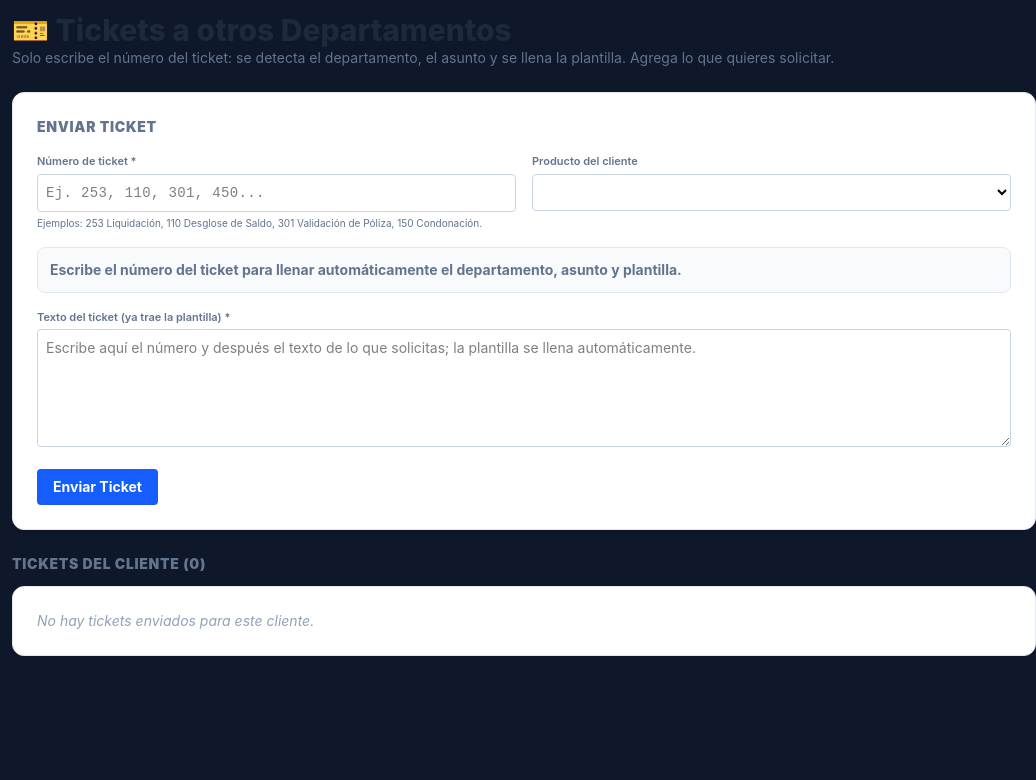
Scenario: TicketsTab: prefill 118 › rellena con valores por defecto cuando la deuda no trae datos
The width and height of the screenshot is (1036, 780).
In the field with placeholder "Ej. 253, 110, 301, 450...": x=276, y=192 [37,174,516,212], type "118"
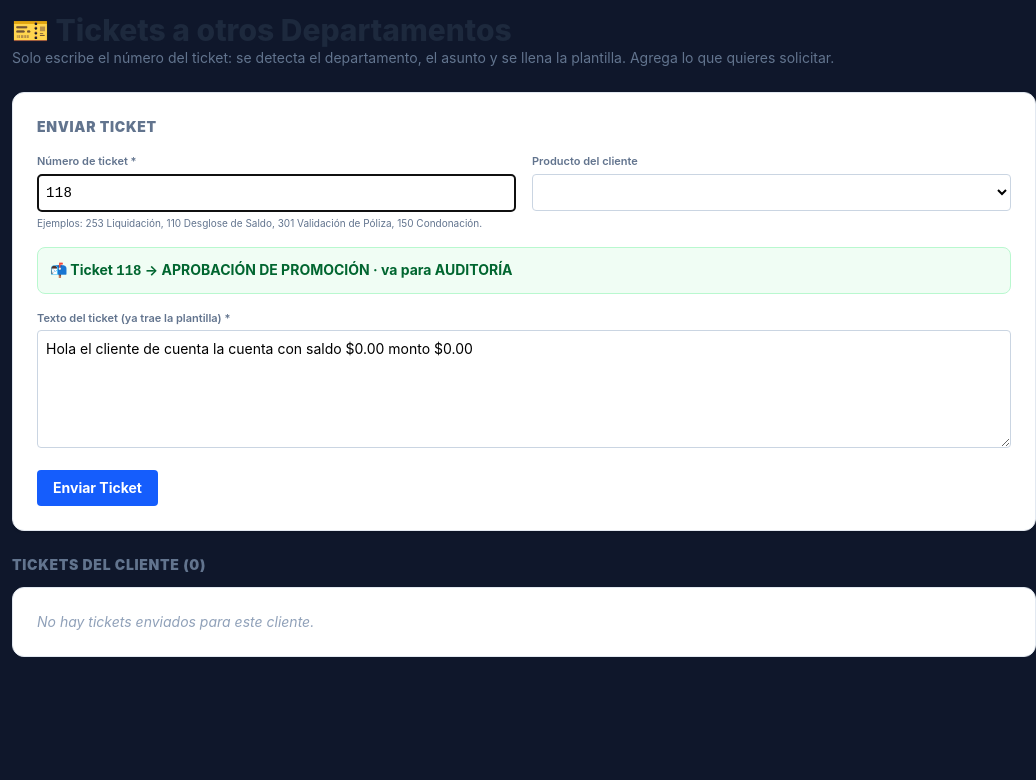
Check: the text box with placeholder "Escribe aquí el número" holds "Hola el cliente de cuenta la cuenta con saldo $0.00 monto $0.00", box [37,330,1011,448]
